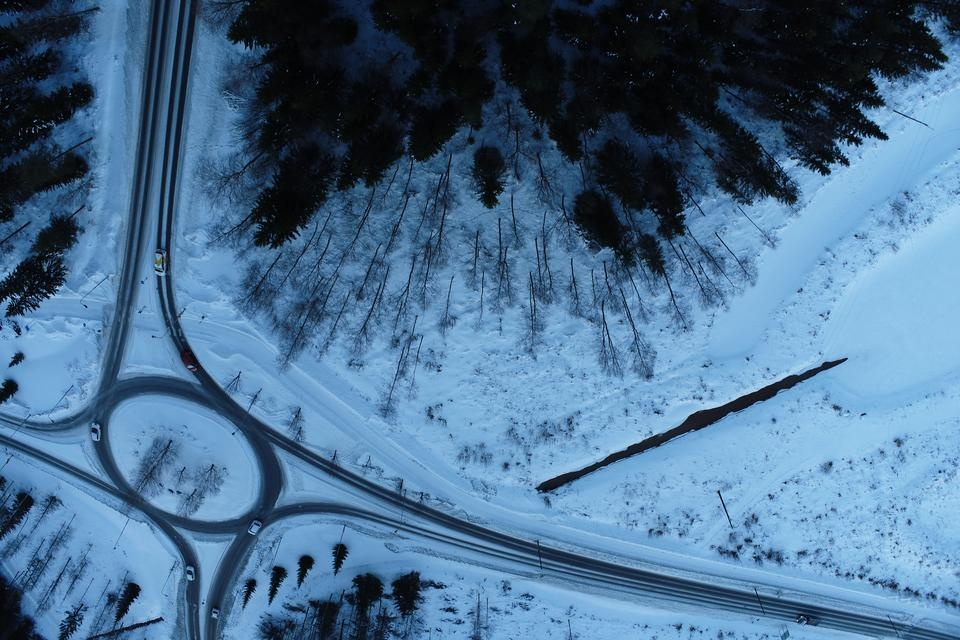roundabout: (71, 353, 304, 556)
